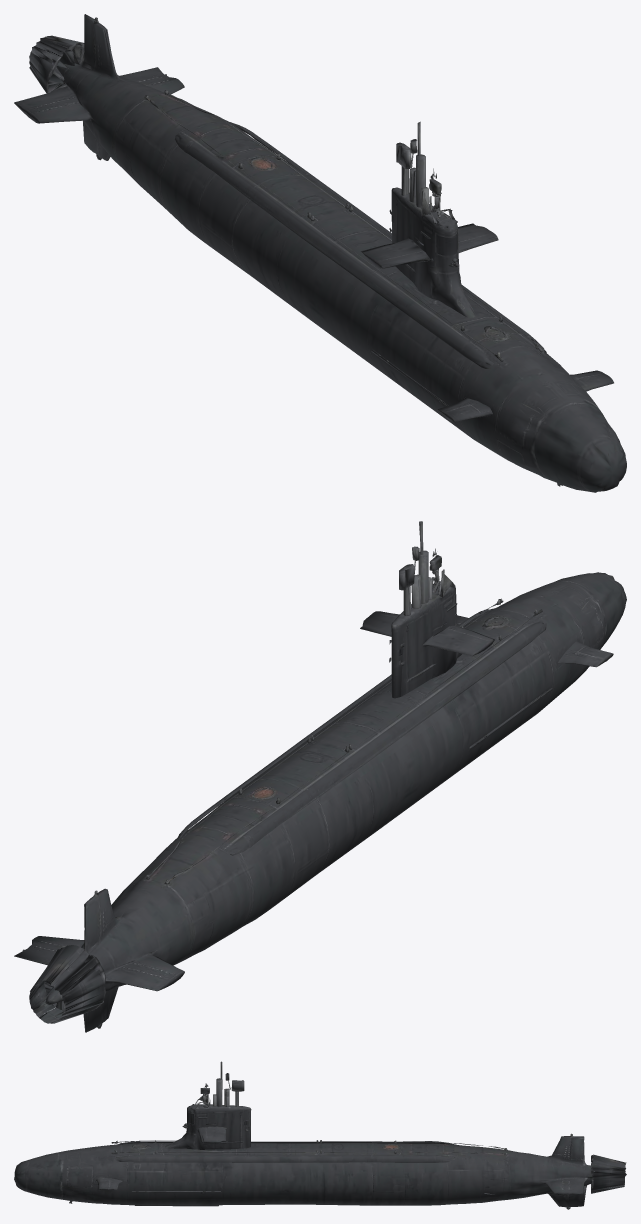
File: submarine.glb
3 renders of one model, top to bottom at view 1: azimuth 30°, elevation 25°; view 2: azimuth 150°, elevation 25°; view 3: azimuth 270°, elevation 25°, orthographic. The views are drawn at different scales.
Visible parts, largest first — view 1: hull; view 2: hull; view 3: hull.
Part boxes in pixels (x1,y1,x2,y2): hull: [14, 14, 626, 492]; hull: [14, 521, 626, 1032]; hull: [14, 1061, 626, 1209].
Bounding box in the file's own units: 17.85 × 29.16 × 110.
Materials: 3 (3 with a texture image).
